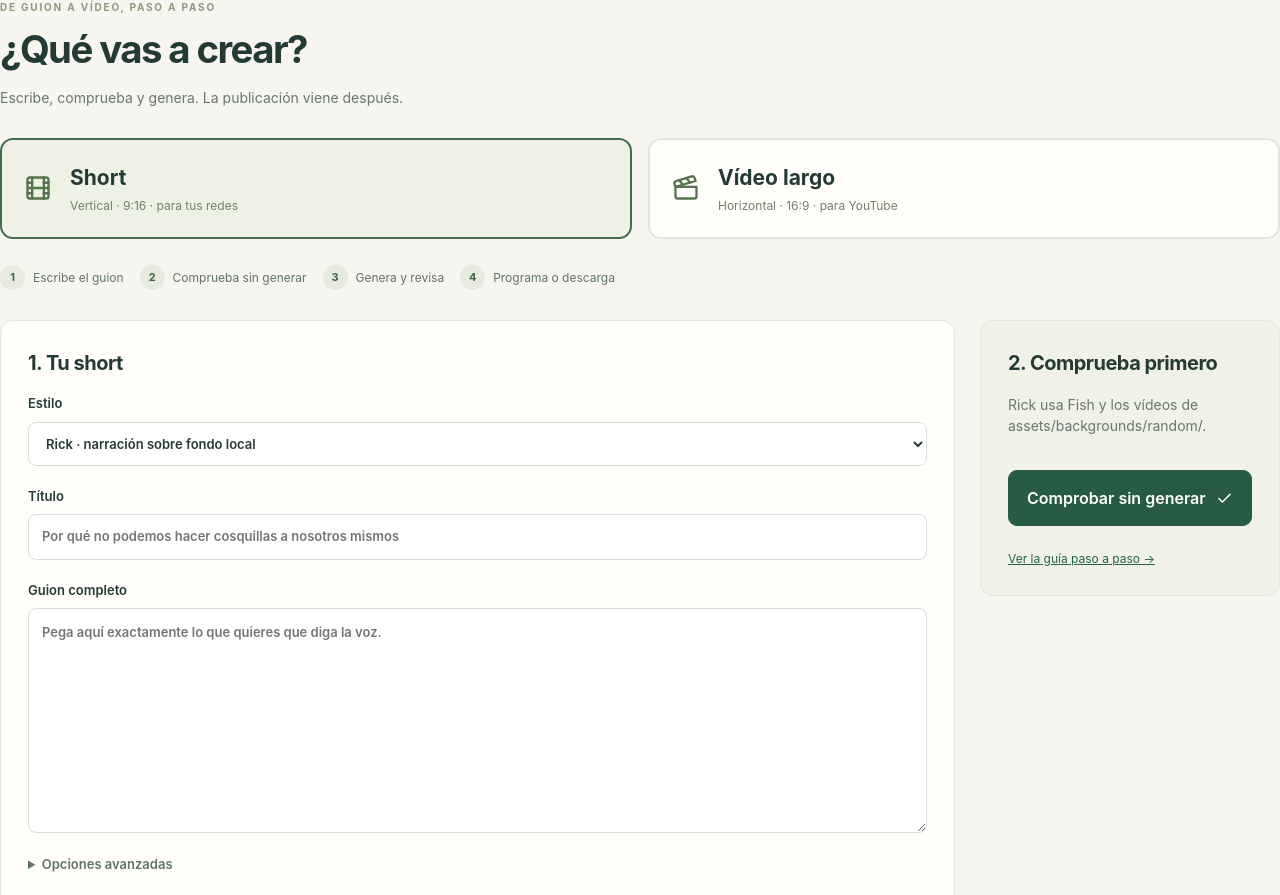
guided studio › shows missing prerequisites and prevents advancing
Step 1. Type "Mi short" into the field labelled "Título" → (478,537), box top-left (28, 514), bottom-right (927, 560)
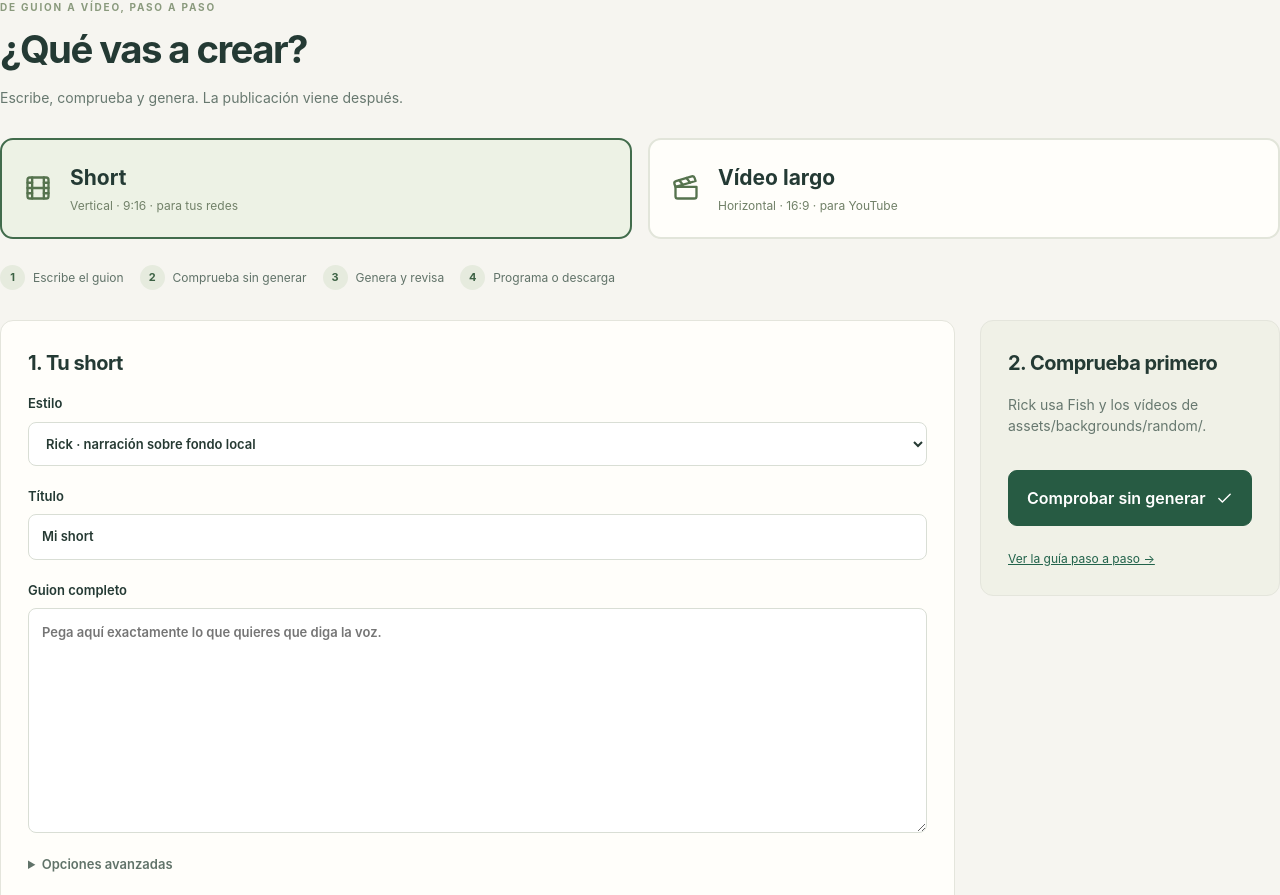
Step 2. Type "Una narración suficientemente larga para probar el vídeo." into the text box labelled "Guion completo" → (478,720), box top-left (28, 608), bottom-right (927, 833)
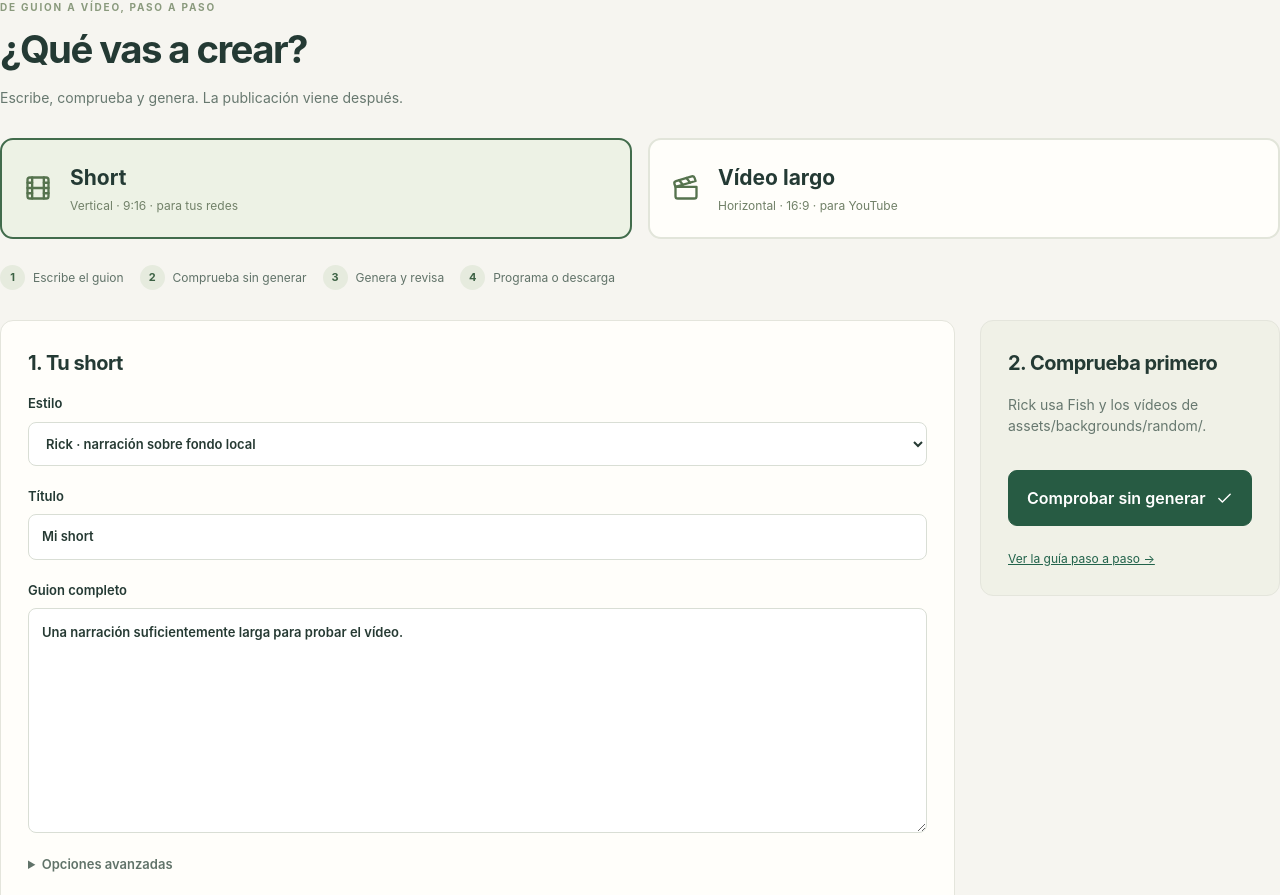
Step 3. Click the button "Comprobar sin generar" → (1130,498), box top-left (1008, 470), bottom-right (1252, 526)
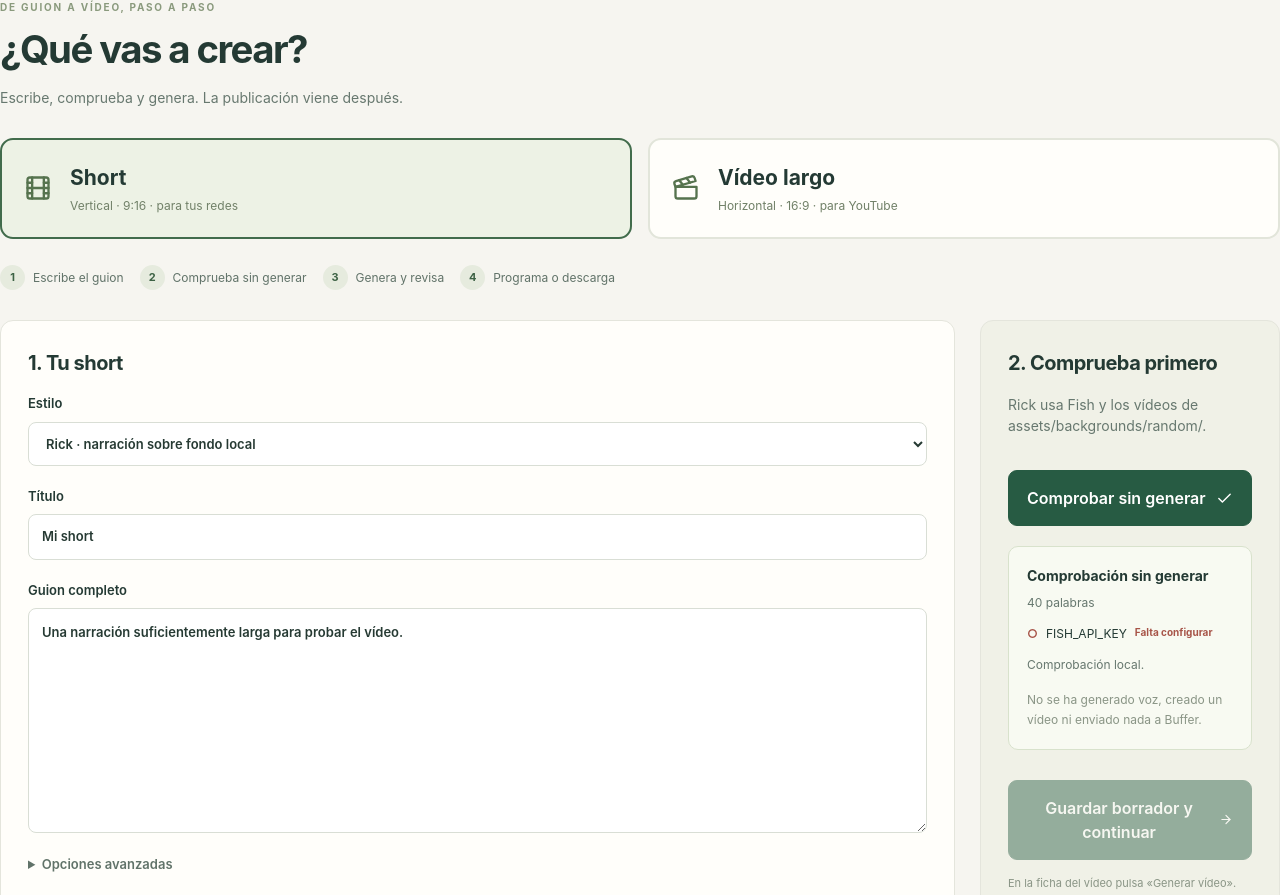
Expected: the text "Falta configurar" is shown, top-left (1135, 625), bottom-right (1212, 640)
Expected: the button "Guardar borrador y continuar" is disabled, top-left (1008, 780), bottom-right (1252, 860)
